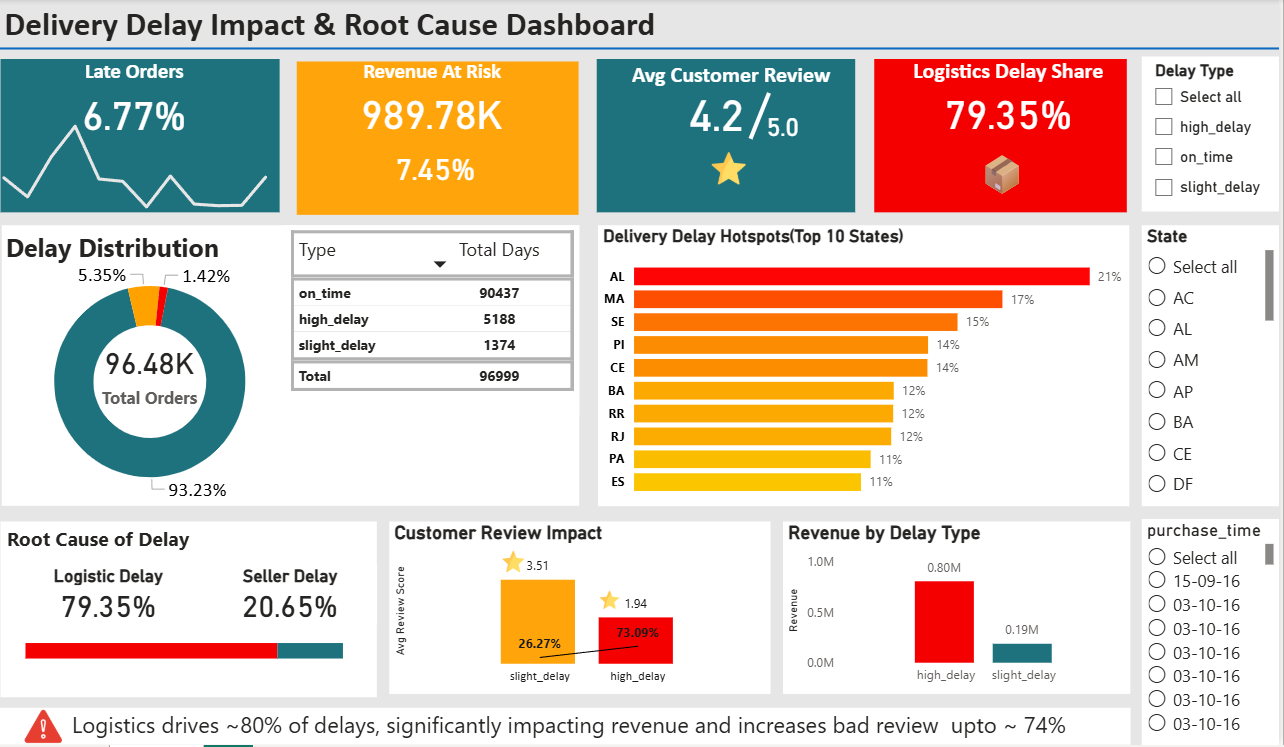

What the dashboard file says about the page in this screenshot:
{"tool":"powerbi","page":{"name":"Page 1","canvas":[1280,720],"ordinal":0},"visuals":[{"type":"shape","box":[44.2,684.2,1091.8,35.6],"z":0},{"type":"shape","box":[74.1,545.9,322.1,65.6],"z":1000},{"type":"textbox","box":[109.8,679.9,1104.7,39.9],"z":2000},{"type":"shape","box":[45.6,504.6,363.5,169.6],"z":3000},{"type":"shape","box":[47,218.1,557.3,270.8],"z":4000},{"type":"shape","box":[44.2,0,1235.8,95.5],"z":5000},{"type":"shape","box":[45.6,58.4,269.4,148.2],"z":6000},{"type":"textbox","box":[44.2,0,722.7,77],"z":6500},{"type":"card","title":"Late Orders","fields":{"Values":["fact_table.delay%"]},"box":[71.5,57.2,207.2,79.6],"z":7000},{"type":"lineChart","fields":{"Y":["Sum(fact_table.is_delay)"],"Category":["fact_table.delivered_customer_date.Variation.Date Hierarchy.Month"]},"box":[35,105,281.1,112.2],"z":8000},{"type":"shape","box":[332.1,59.9,272.2,148.2],"z":9000},{"type":"card","title":"Revenue At Risk","fields":{"Values":["fact_table.late_revenue"]},"box":[357.8,57,208.1,78.4],"z":11000},{"type":"card","fields":{"Values":["fact_table.revenue_impact%"]},"box":[326.9,96.5,277.5,132.7],"z":12000},{"type":"donutChart","title":"Delay Distribution","fields":{"Category":["fact_table.delay_bucket"],"Y":["CountNonNull(fact_table.order_id)"]},"box":[20,233.8,339.2,270.8],"z":13000},{"type":"barChart","title":"Delivery Delay Hotspots(Top 10 States)","fields":{"Y":["fact_table.delay%"],"Category":["fact_table.customer_state"]},"box":[622.9,218.1,513.1,270.8],"z":14000},{"type":"shape","box":[621.5,58.4,249.4,148.2],"z":15000},{"type":"card","title":"Avg Customer Review","fields":{"Values":["Avg(fact_table.review_score)"]},"box":[624.3,59.9,226.6,95.5],"z":16000},{"type":"hundredPercentStackedBarChart","title":"Root Cause of Delays","fields":{"Y":["fact_table.logistic delay %","fact_table.seller delay %"]},"box":[65.6,588.7,316.4,74.1],"z":17000},{"type":"shape","box":[889.4,58.4,243.7,148.2],"z":18000},{"type":"card","title":"Logistic Delay","fields":{"Values":["fact_table.logistic delay %"]},"box":[65.6,545.9,169.6,57],"z":19000},{"type":"card","title":"Logistics Delay Share","fields":{"Values":["fact_table.logistic delay %"]},"box":[914.2,57,208.1,78.4],"z":20000},{"type":"card","title":"Seller Delay","fields":{"Values":["fact_table.seller delay %"]},"box":[240.9,545.9,168.2,57],"z":21000},{"type":"textbox","box":[47,503.2,497.5,57],"z":22000},{"type":"textbox","box":[45.6,218.1,300.8,64.1],"z":23000},{"type":"shape","box":[469,625.7,310.7,37.1],"z":24000},{"type":"tableEx","fields":{"Values":["fact_table.delay_bucket","CountNonNull(fact_table.delay_days_num)"]},"box":[319.3,218.1,285.1,183.9],"z":25000},{"type":"textbox","box":[650,55.6,300.8,39.9],"z":26000},{"type":"lineClusteredColumnComboChart","title":"Customer Review Impact","fields":{"Category":["fact_table.delay_bucket"],"Y":["Avg(fact_table.review_score)"],"Y2":["fact_table.bad review %"]},"box":[421,504.3,368,166.5],"z":27000},{"type":"card","fields":{"Values":["Count(fact_table.order_id)"]},"box":[101.2,282.2,176.7,156.8],"z":28000},{"type":"shape","box":[732.7,89.8,92.7,47],"z":29000},{"type":"textbox","box":[779.7,105.5,91.2,62.7],"z":30000},{"type":"columnChart","fields":{"Y":["fact_table.total_revenue"],"Category":["fact_table.delay_bucket"]},"box":[801.1,504.3,335.4,166.5],"z":31000},{"type":"image","box":[732.7,118.3,32.8,89.8],"z":32000},{"type":"actionButton","box":[0,0,100,40],"z":33000},{"type":"slicer","fields":{"Values":["fact_table.delay_bucket"]},"box":[1147.4,55.6,132.6,149.7],"z":34000},{"type":"image","box":[65.6,684.2,44.2,35.6],"z":35000},{"type":"image","box":[514.6,531.7,51.3,21.4],"z":36000},{"type":"image","box":[604.4,570.2,58.4,18.5],"z":37000},{"type":"listSlicer","title":"State","fields":{"Values":["fact_table.customer_state"]},"box":[1147.4,218.1,132.6,270.8],"z":38000},{"type":"listSlicer","fields":{"Values":["fact_table.purchase_time"]},"box":[1147.3,501.9,132.7,218.4],"z":39000},{"type":"textbox","box":[982,137.5,100.1,68.8],"z":39001}]}

Visuals, with their boxes on the page's 1280x720 design canvas (x1, y1, x2, y2). These are canvas units, not pixel positions in the 1284x747 screenshot, which may show the page scaled, cropped or inside an application window:
shape: [44,684,1136,720]
shape: [74,546,396,612]
textbox: [110,680,1214,720]
shape: [46,505,409,674]
shape: [47,218,604,489]
shape: [44,0,1280,96]
shape: [46,58,315,207]
textbox: [44,0,767,77]
"Late Orders" card: [72,57,279,137]
lineChart - Sum(fact_table.is_delay) x fact_table.delivered_customer_date.Variation.Date Hierarchy.Month: [35,105,316,217]
shape: [332,60,604,208]
"Revenue At Risk" card: [358,57,566,135]
card - fact_table.revenue_impact%: [327,96,604,229]
"Delay Distribution" donutChart: [20,234,359,505]
"Delivery Delay Hotspots(Top 10 States)" barChart: [623,218,1136,489]
shape: [622,58,871,207]
"Avg Customer Review" card: [624,60,851,155]
"Root Cause of Delays" hundredPercentStackedBarChart: [66,589,382,663]
shape: [889,58,1133,207]
"Logistic Delay" card: [66,546,235,603]
"Logistics Delay Share" card: [914,57,1122,135]
"Seller Delay" card: [241,546,409,603]
textbox: [47,503,544,560]
textbox: [46,218,346,282]
shape: [469,626,780,663]
tableEx - fact_table.delay_bucket x CountNonNull(fact_table.delay_days_num): [319,218,604,402]
textbox: [650,56,951,96]
"Customer Review Impact" lineClusteredColumnComboChart: [421,504,789,671]
card - Count(fact_table.order_id): [101,282,278,439]
shape: [733,90,825,137]
textbox: [780,106,871,168]
columnChart - fact_table.total_revenue x fact_table.delay_bucket: [801,504,1136,671]
image: [733,118,766,208]
actionButton: [0,0,100,40]
slicer - fact_table.delay_bucket: [1147,56,1280,205]
image: [66,684,110,720]
image: [515,532,566,553]
image: [604,570,663,589]
"State" listSlicer: [1147,218,1280,489]
listSlicer - fact_table.purchase_time: [1147,502,1280,720]
textbox: [982,138,1082,206]
